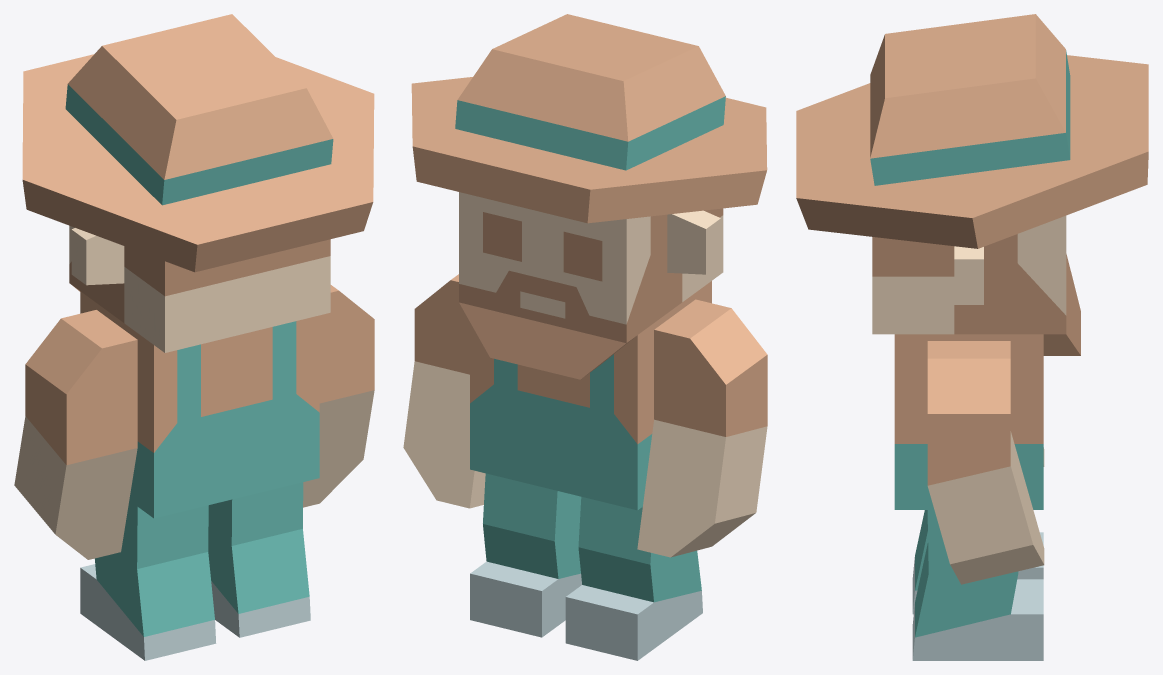
The model's file is digger.glb.
3 renders of one model, left to right at view 1: azimuth 30°, elevation 25°; view 2: azimuth 150°, elevation 25°; view 3: azimuth 270°, elevation 25°, orthographic.
Visible parts, largest first — view 1: head, body, armLeft, legLeft, legRight, armRight; view 2: head, armLeft, body, legLeft, legRight, armRight; view 3: head, armRight, legRight, body, legLeft.
Part boxes in pixels (<box>): head: <box>22,14,374,352</box>; body: <box>80,291,319,518</box>; armLeft: <box>14,310,137,559</box>; legLeft: <box>80,501,216,660</box>; legRight: <box>208,482,310,637</box>; armRight: <box>303,285,374,507</box>; head: <box>411,14,767,379</box>; armLeft: <box>637,299,767,557</box>; body: <box>470,281,711,510</box>; legLeft: <box>565,497,702,660</box>; legRight: <box>470,473,581,637</box>; armRight: <box>403,274,485,508</box>; head: <box>796,14,1148,355</box>; armRight: <box>927,341,1044,584</box>; legRight: <box>912,510,1043,660</box>; body: <box>894,334,1043,509</box>; legLeft: <box>912,510,1043,614</box>.
Size of the model in its own units: 0.5516 by 0.8487 by 0.4727.
